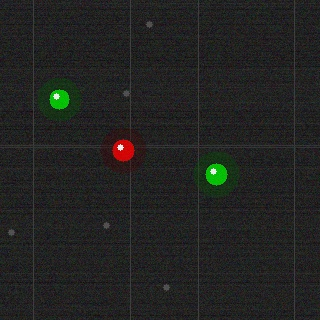green_normal: (203, 161, 229, 187), (47, 87, 71, 111)
red_fault: (110, 137, 136, 163)
